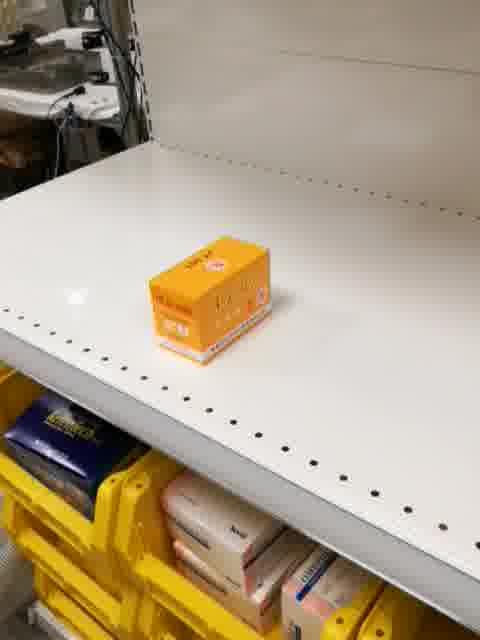jasminetea: (148, 235, 272, 367)
